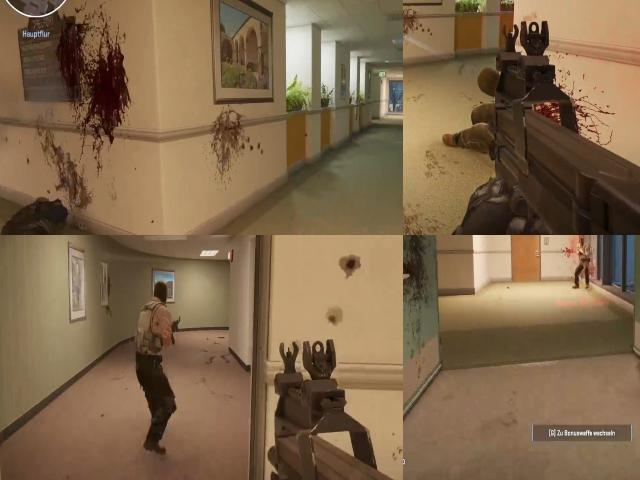Dead: (0, 192, 97, 235), (448, 97, 493, 164)
T: (127, 284, 175, 368), (573, 236, 592, 281)
T-Head: (148, 278, 172, 306), (576, 235, 587, 253)
